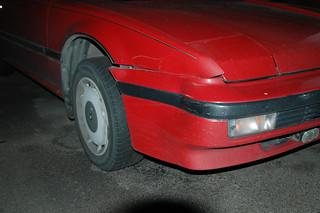bonnet-dent: (156, 19, 319, 89)
fender-dent: (46, 20, 155, 79)
